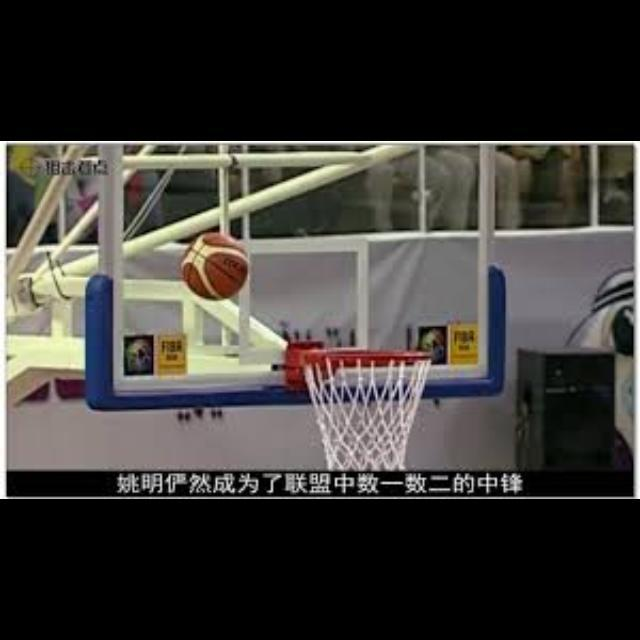basketball: (182, 233, 248, 300)
rim: (302, 348, 432, 470)
